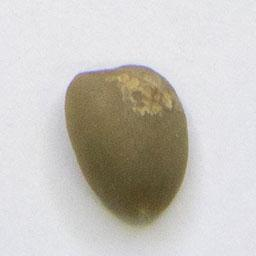premium: (61, 60, 191, 228)
